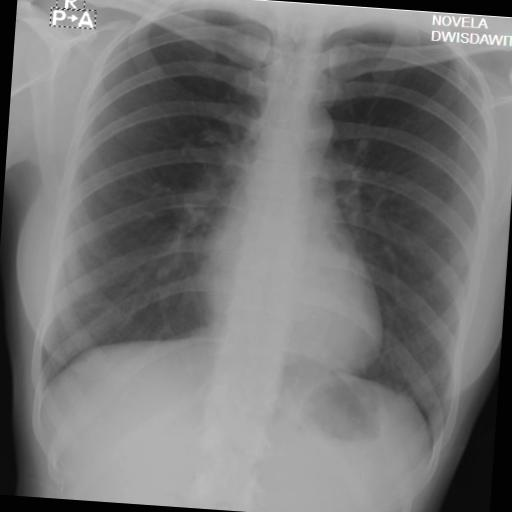normal: (27, 0, 504, 471)
